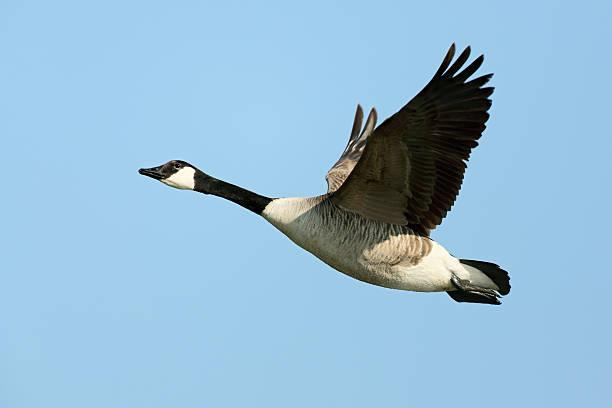Canadian-Goose: (140, 42, 513, 311)
